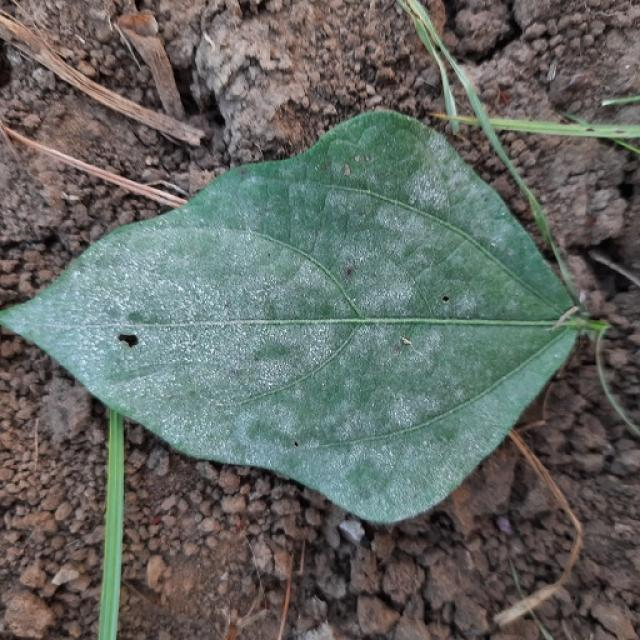Blackgram: (0, 109, 588, 525)
Powdery_Mildew: (243, 191, 487, 424), (78, 236, 345, 395), (106, 328, 339, 452), (313, 333, 450, 437), (325, 213, 442, 323), (88, 249, 195, 326), (184, 248, 302, 317), (224, 326, 322, 393), (119, 270, 228, 324), (315, 132, 387, 186), (320, 184, 383, 235), (406, 163, 452, 214)
